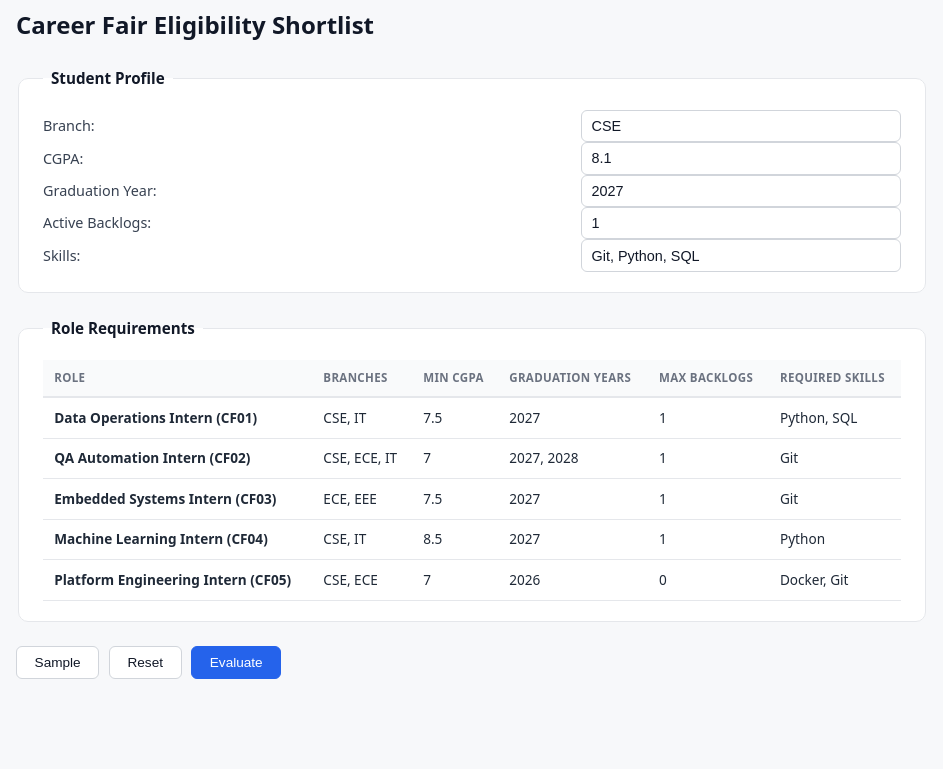
Test: App integration › shows INVALID_CGPA and clears results for an out-of-range CGPA
Replace the text in the field labelled "CGPA:" with "10.5" at (741, 158), box [581,142,901,175]
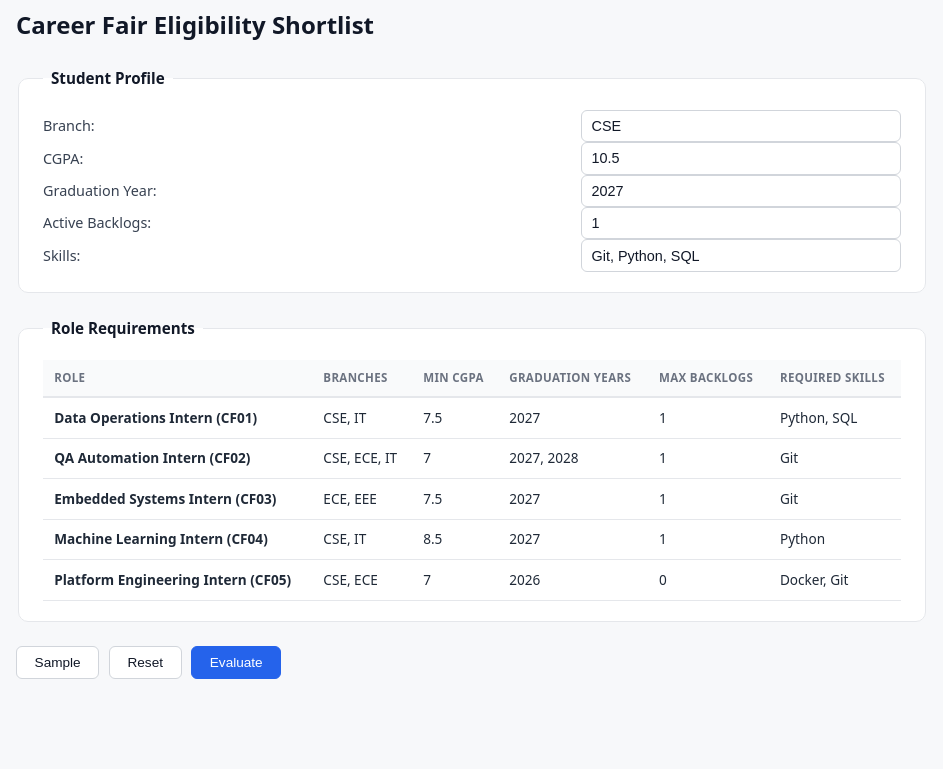
Click the button "Evaluate" at (236, 662), box [191,646,281,679]
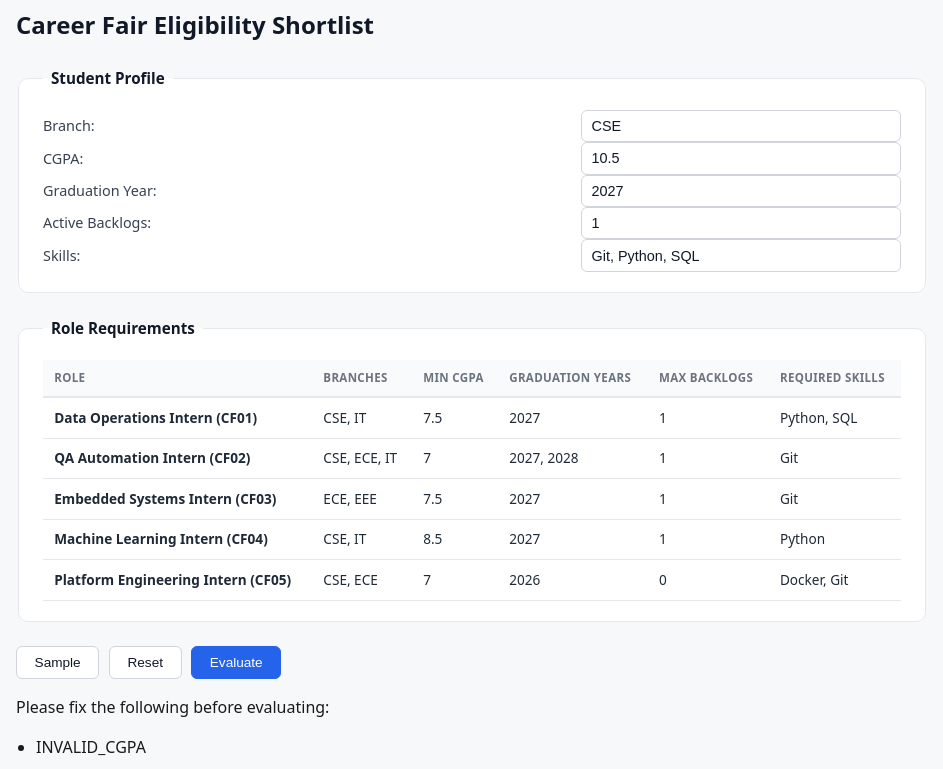
Check: the list item "INVALID_CGPA" is shown, box [36,736,146,758]
